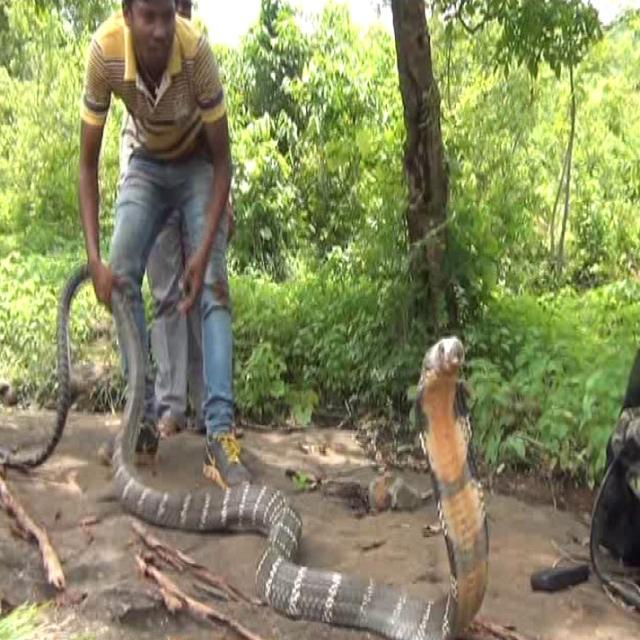Snake: (1, 258, 490, 639)
